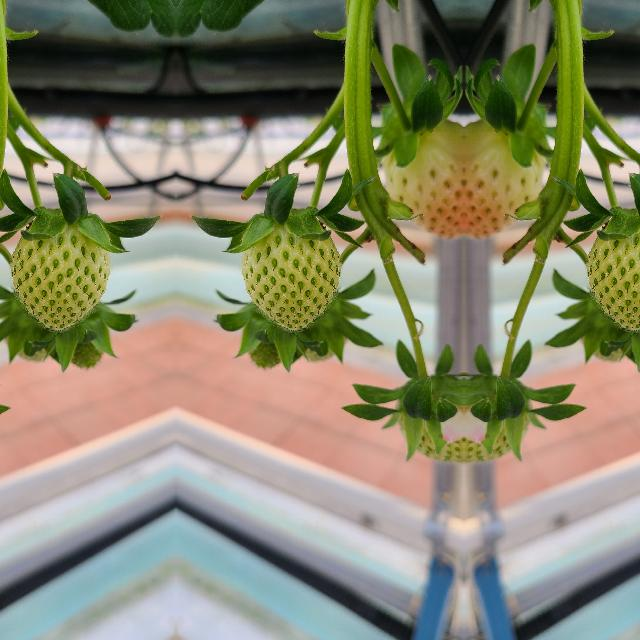Health_25: (242, 225, 340, 328), (10, 225, 108, 328), (586, 225, 640, 328)
Health_75: (383, 120, 463, 236), (463, 120, 543, 236)
